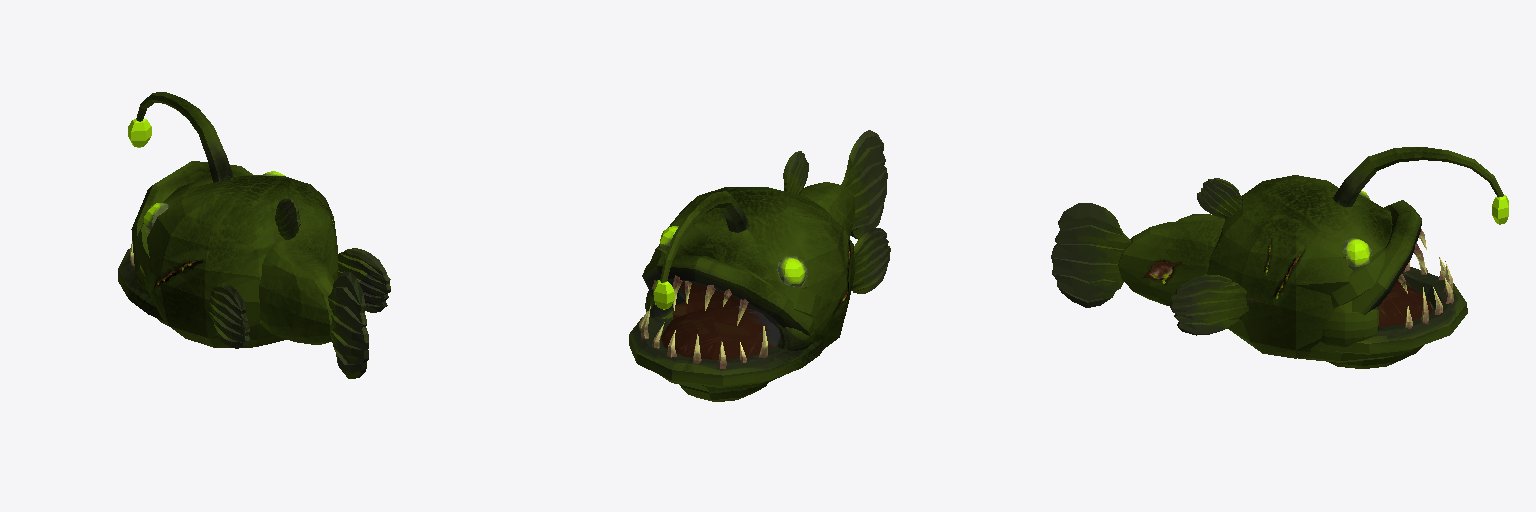
3 renders of one model, left to right at view 1: azimuth 30°, elevation 25°; view 2: azimuth 150°, elevation 25°; view 3: azimuth 270°, elevation 25°, orthographic.
Visible parts, largest first — view 1: AnglerFish_lambert2SG; view 2: AnglerFish_lambert2SG; view 3: AnglerFish_lambert2SG.
Part boxes in pixels (left/top/right/bottom): AnglerFish_lambert2SG: left=118, top=92, right=390, bottom=378; AnglerFish_lambert2SG: left=629, top=130, right=890, bottom=401; AnglerFish_lambert2SG: left=1051, top=147, right=1508, bottom=368.
Size of the model in its own units: 296 by 344 by 667.
1 materials, 1 textured.